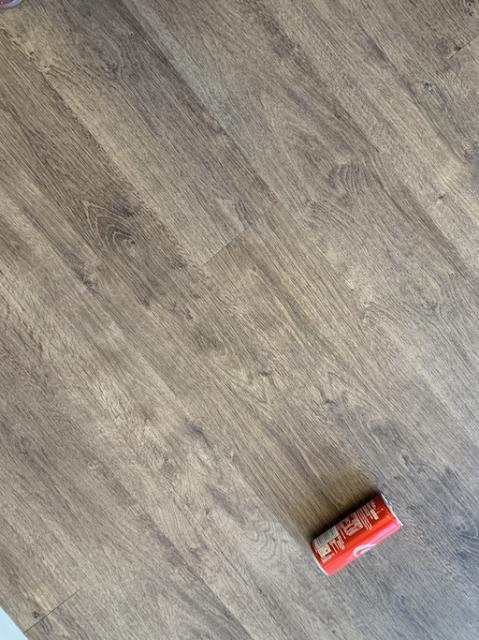metal: (310, 494, 401, 573)
